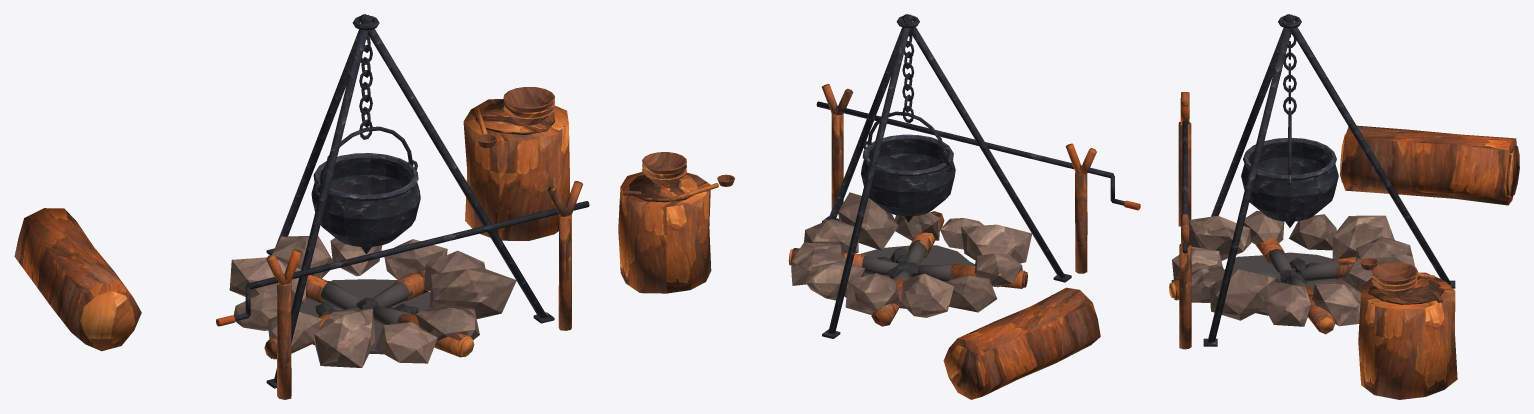
The model's file is ro_camp_cookery.glb.
3 views of the same model, side by side, from view 1: azimuth 30°, elevation 25°; view 2: azimuth 150°, elevation 25°; view 3: azimuth 270°, elevation 25° (orthographic). The views are drawn at different scales.
Visible parts, largest first — view 1: model; view 2: model; view 3: model.
Part boxes in pixels (bbox=[...]): model: bbox=[14, 14, 589, 399]; model: bbox=[618, 14, 1140, 399]; model: bbox=[1169, 14, 1519, 399].
Size of the model in its own units: 2.3 by 1.28 by 1.5.
19 materials, 17 textured.
